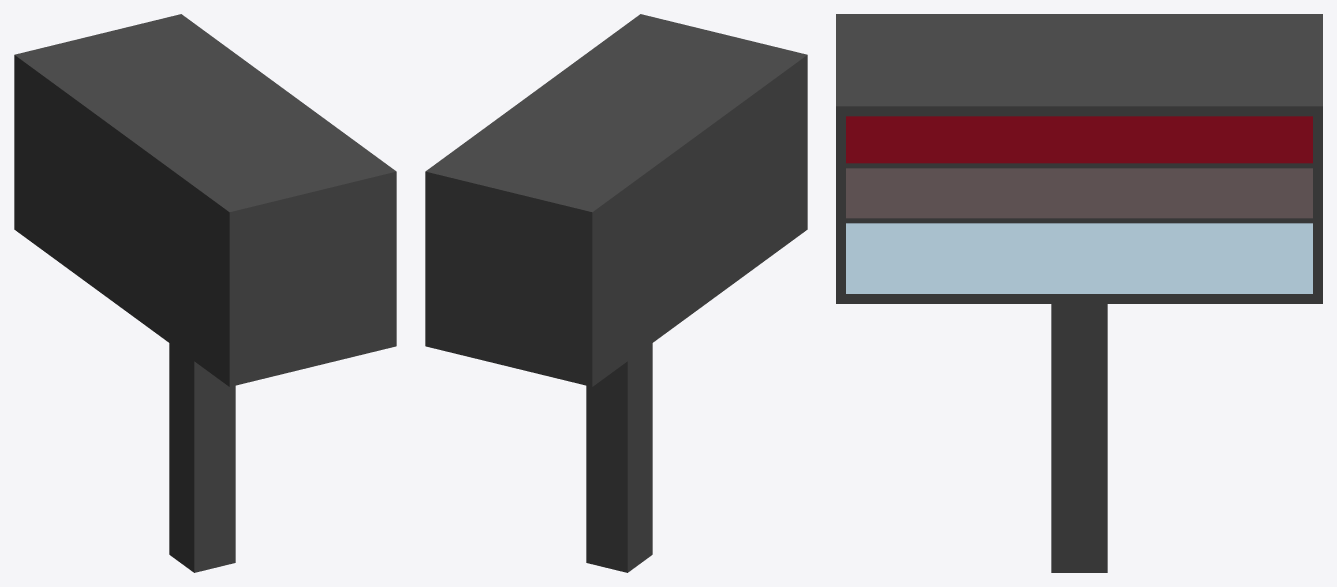
The model's file is building1.fbx.
3 views of the same model, side by side, from view 1: azimuth 30°, elevation 25°; view 2: azimuth 150°, elevation 25°; view 3: azimuth 270°, elevation 25° (orthographic). The views are drawn at different scales.
Parts seen in each view (by area): view 1: Cube.001; view 2: Cube.001; view 3: Cube.001.
Boxes of the visible parts, x1,y1,x2,y2 form: Cube.001: [14, 14, 396, 572]; Cube.001: [425, 14, 807, 572]; Cube.001: [836, 14, 1322, 572].
Size of the model in its own units: 3.97 by 10.1 by 8.85.
